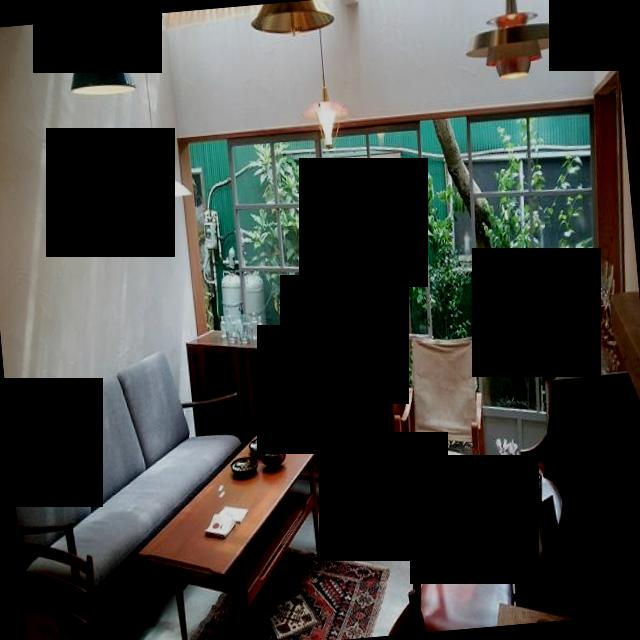vintage chair: (384, 323, 498, 554)
vintage desk: (130, 426, 345, 640)
vintage shelf: (185, 307, 412, 433)
vintage sofa: (2, 348, 200, 598)
